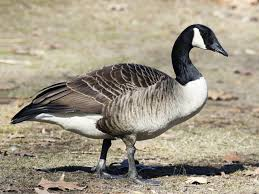goose: (11, 22, 231, 187)
